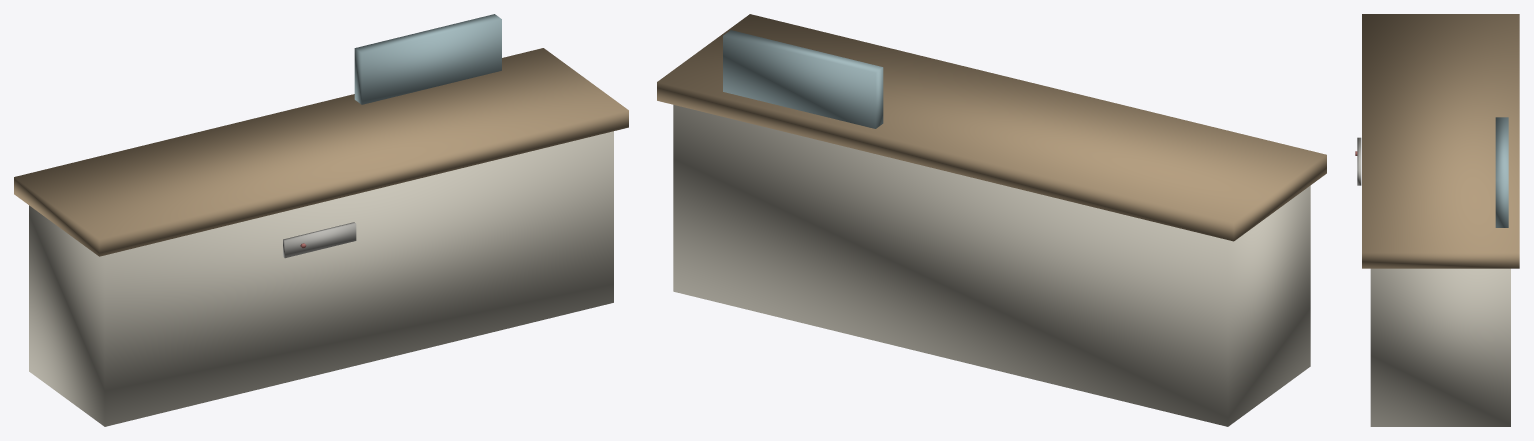
Rendered from post_office_counter__wide.glb.
3 views of the same model, side by side, from view 1: azimuth 30°, elevation 25°; view 2: azimuth 150°, elevation 25°; view 3: azimuth 270°, elevation 25° (orthographic). The views are drawn at different scales.
Parts seen in each view (by area): view 1: world; view 2: world; view 3: world.
Boxes of the visible parts, x1,y1,x2,y2 form: world: (14, 14, 628, 426); world: (657, 14, 1326, 426); world: (1355, 14, 1519, 426).
Bounding box in the file's own units: 2.58 × 1.14 × 0.751.
